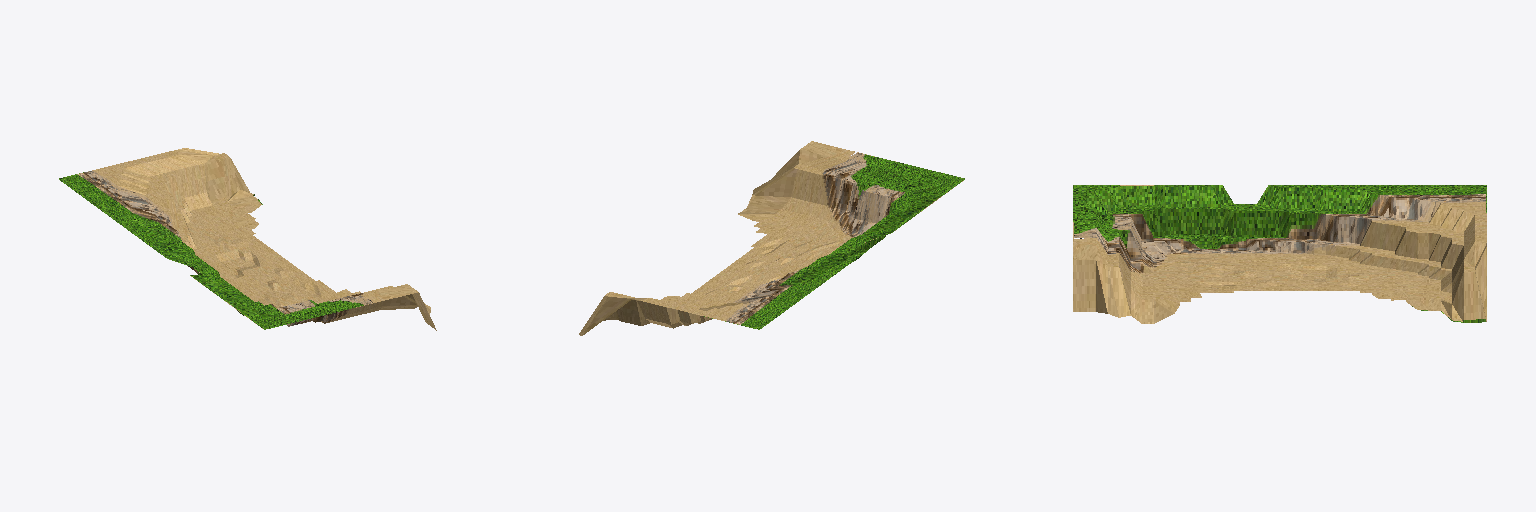
3 renders of one model, left to right at view 1: azimuth 30°, elevation 25°; view 2: azimuth 150°, elevation 25°; view 3: azimuth 270°, elevation 25°, orthographic.
Parts seen in each view (by area): view 1: Hill_2_Grid.001; view 2: Hill_2_Grid.001; view 3: Hill_2_Grid.001.
Boxes of the visible parts, x1=… form: Hill_2_Grid.001: x1=59, y1=148, x2=436, y2=330; Hill_2_Grid.001: x1=579, y1=141, x2=964, y2=335; Hill_2_Grid.001: x1=1073, y1=185, x2=1486, y2=323.
Bounding box in the file's own units: 216 × 53.83 × 407.
1 materials, 1 textured.